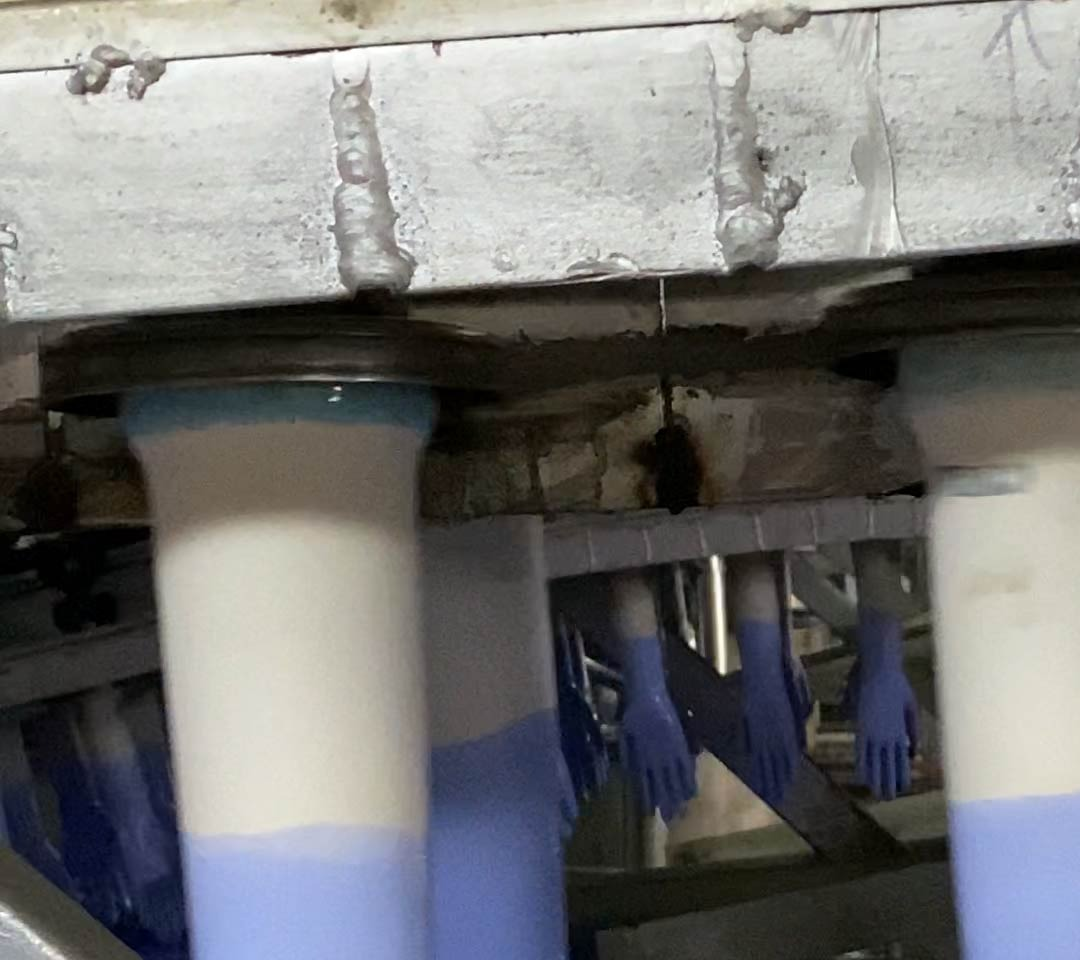glove: (839, 607, 923, 797), (612, 632, 697, 812), (729, 615, 803, 808)
